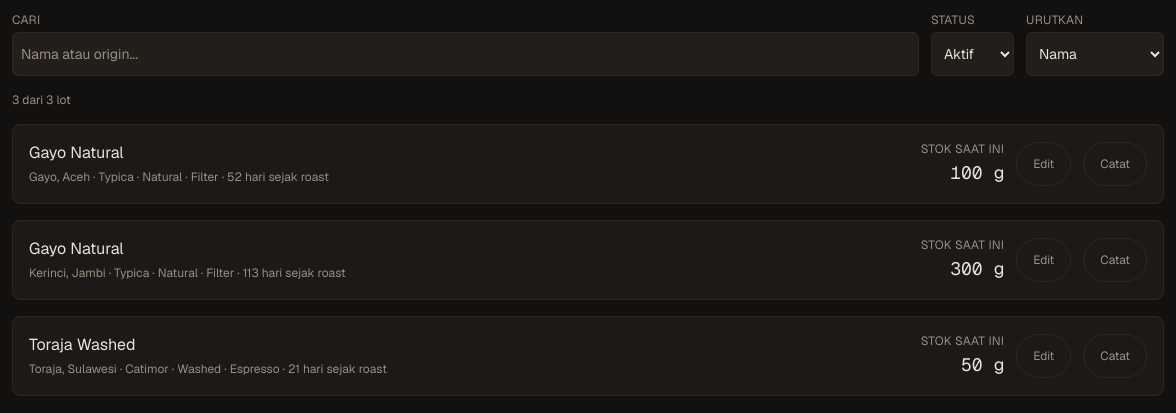
Scenario: LotList pencarian › Hapus pencarian juga melonggarkan status kalau query saja tidak cukup
The image size is (1176, 413).
Select "Habis" in the dropdown labelled "Status" at coordinates (972, 54), box [931,32,1014,76]
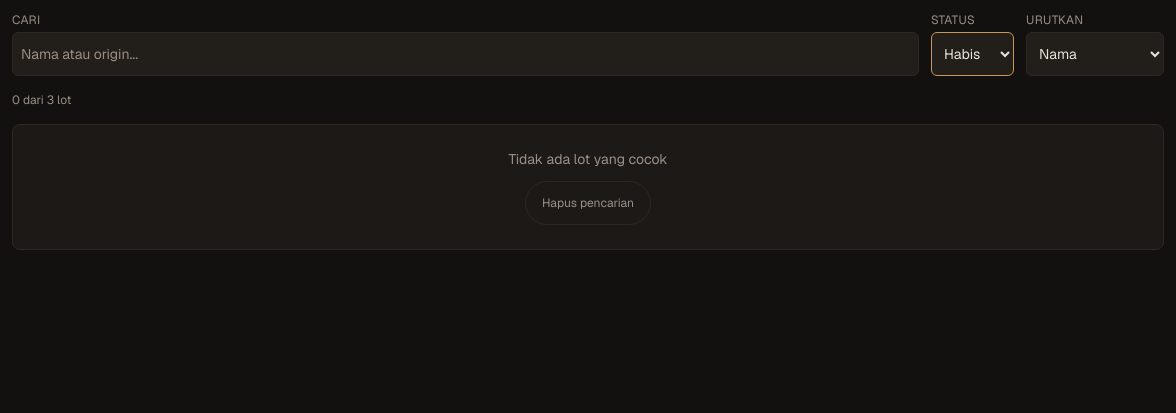
Type "tidak ada begini" into the search field labelled "Cari".
click(466, 54); type("tidak ada begini")  # box [12,32,919,76]
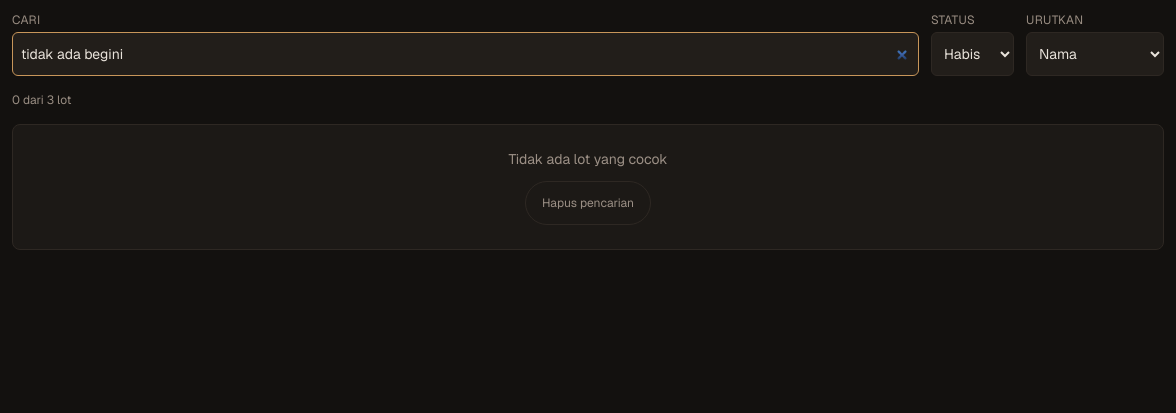
Click the button "Hapus pencarian".
click(588, 203)  # box [525,181,651,225]
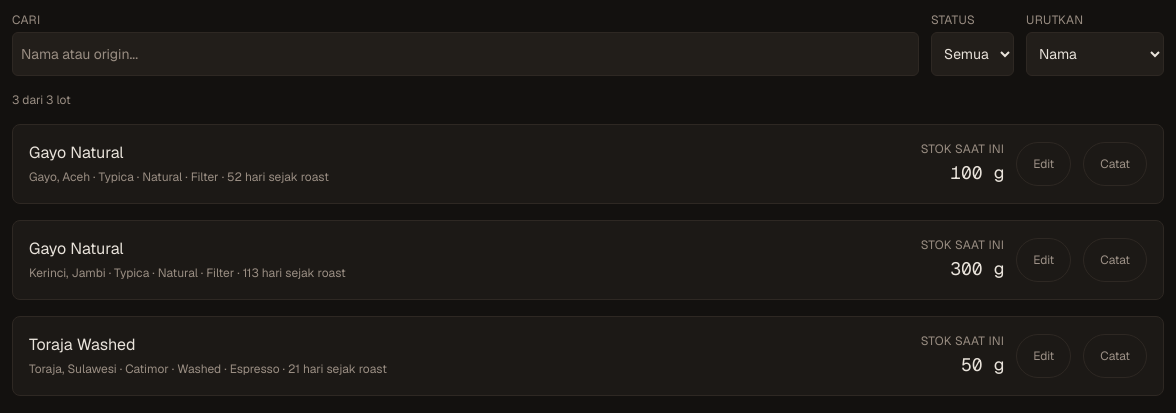
Check: the text "Tidak ada lot yang cocok" is gone
